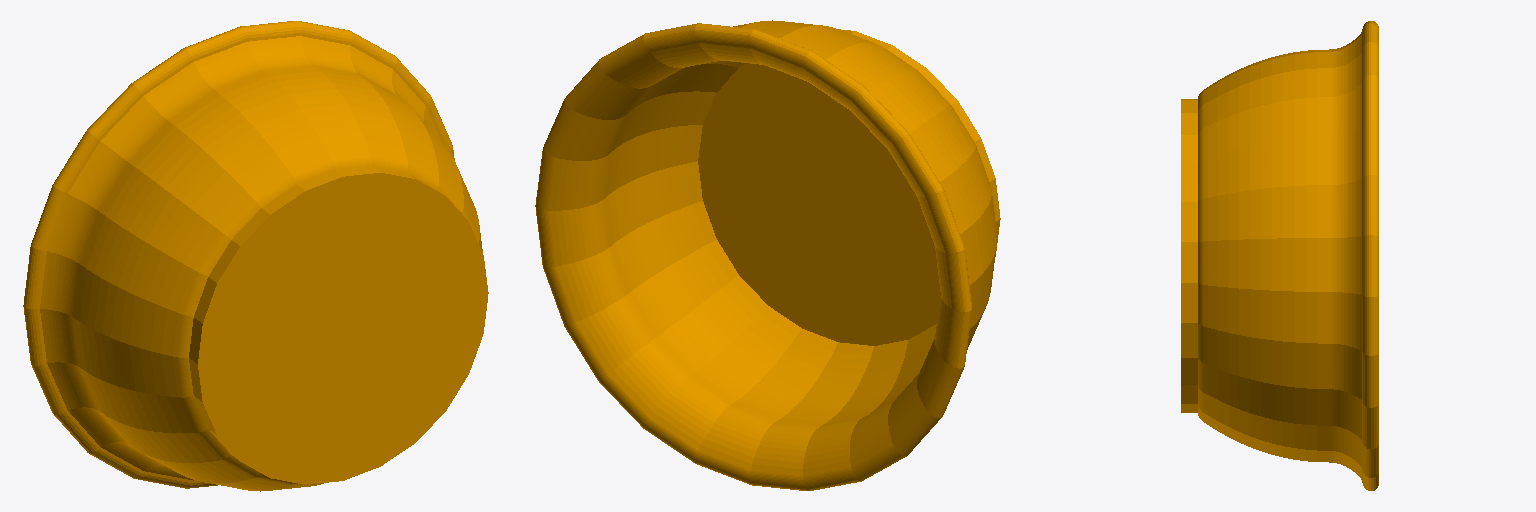
URDF robot description (indenter):
<robot name="indenter">
	<!-- <link name="world">
        </link>

        <joint name="world_to_indenter" type="prismatic">
                <parent link="world"/>
                <child link="indenter"/>
                <origin rpy="0.0 0.0 0.0" xyz="0.0 0.0 0.0"/>
                <axis xyz="0 1 0"/>
                <dynamics damping="0.0" friction="0.0"/>
                <limit lower="0.0" upper="0.4" velocity="1e9" effort="1e9"/>
        </joint> -->

	<link name="indenter">
		<visual>
			<origin rpy="0.0 0.0 0.0" xyz="0.0 0.0 0.0"/>
			<geometry>
				<mesh filename="../../meshes/target_objects/bowl_c_shapenet.obj"/>
			</geometry>
		</visual>
		<collision>
			<origin rpy="0.0 0.0 0.0" xyz="0.0 0.0 0.0"/>
			<geometry>
				<mesh filename="../../meshes/target_objects/bowl_c_shapenet.obj"/>
			</geometry>
		</collision>
		<inertial>
			<origin rpy="0.0 0.0 0.0" xyz="0.0 -8.64389e-3 0.0"/>
			<mass value="0.00224114"/>
			<inertia ixx="6.25553e-8" iyy="4.07645e-8" izz="6.25353e-8" ixy="0.0" ixz="4.69820e-15" iyz="0.0"/>
		</inertial>
	</link>
</robot>

--- What the picture shows (computed from the rendered views, not written in the file) ---
The picture shows the robot from 3 angles, left to right: view 1: azimuth 30°, elevation 25°; view 2: azimuth 150°, elevation 25°; view 3: azimuth 270°, elevation 25°; orthographic projection.
Robot: indenter — 1 links, 0 joints (none); root link indenter; default pose: every joint at zero.
Visible links, largest first — view 1: indenter; view 2: indenter; view 3: indenter.
Link boxes in pixels (x1=…): indenter: x1=23, y1=21, x2=488, y2=491; indenter: x1=535, y1=20, x2=1000, y2=490; indenter: x1=1181, y1=21, x2=1378, y2=490.
Bounding box of the posed robot: 0.2399 × 0.1009 × 0.2399 m (x, y, z).
1 mesh visuals loaded from 1 distinct referenced files (1 OBJ).